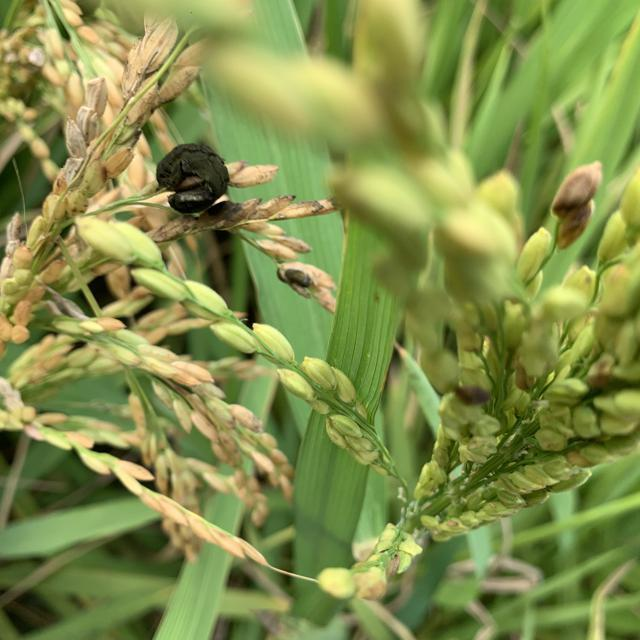Leaf_Scald: (153, 138, 234, 218)
